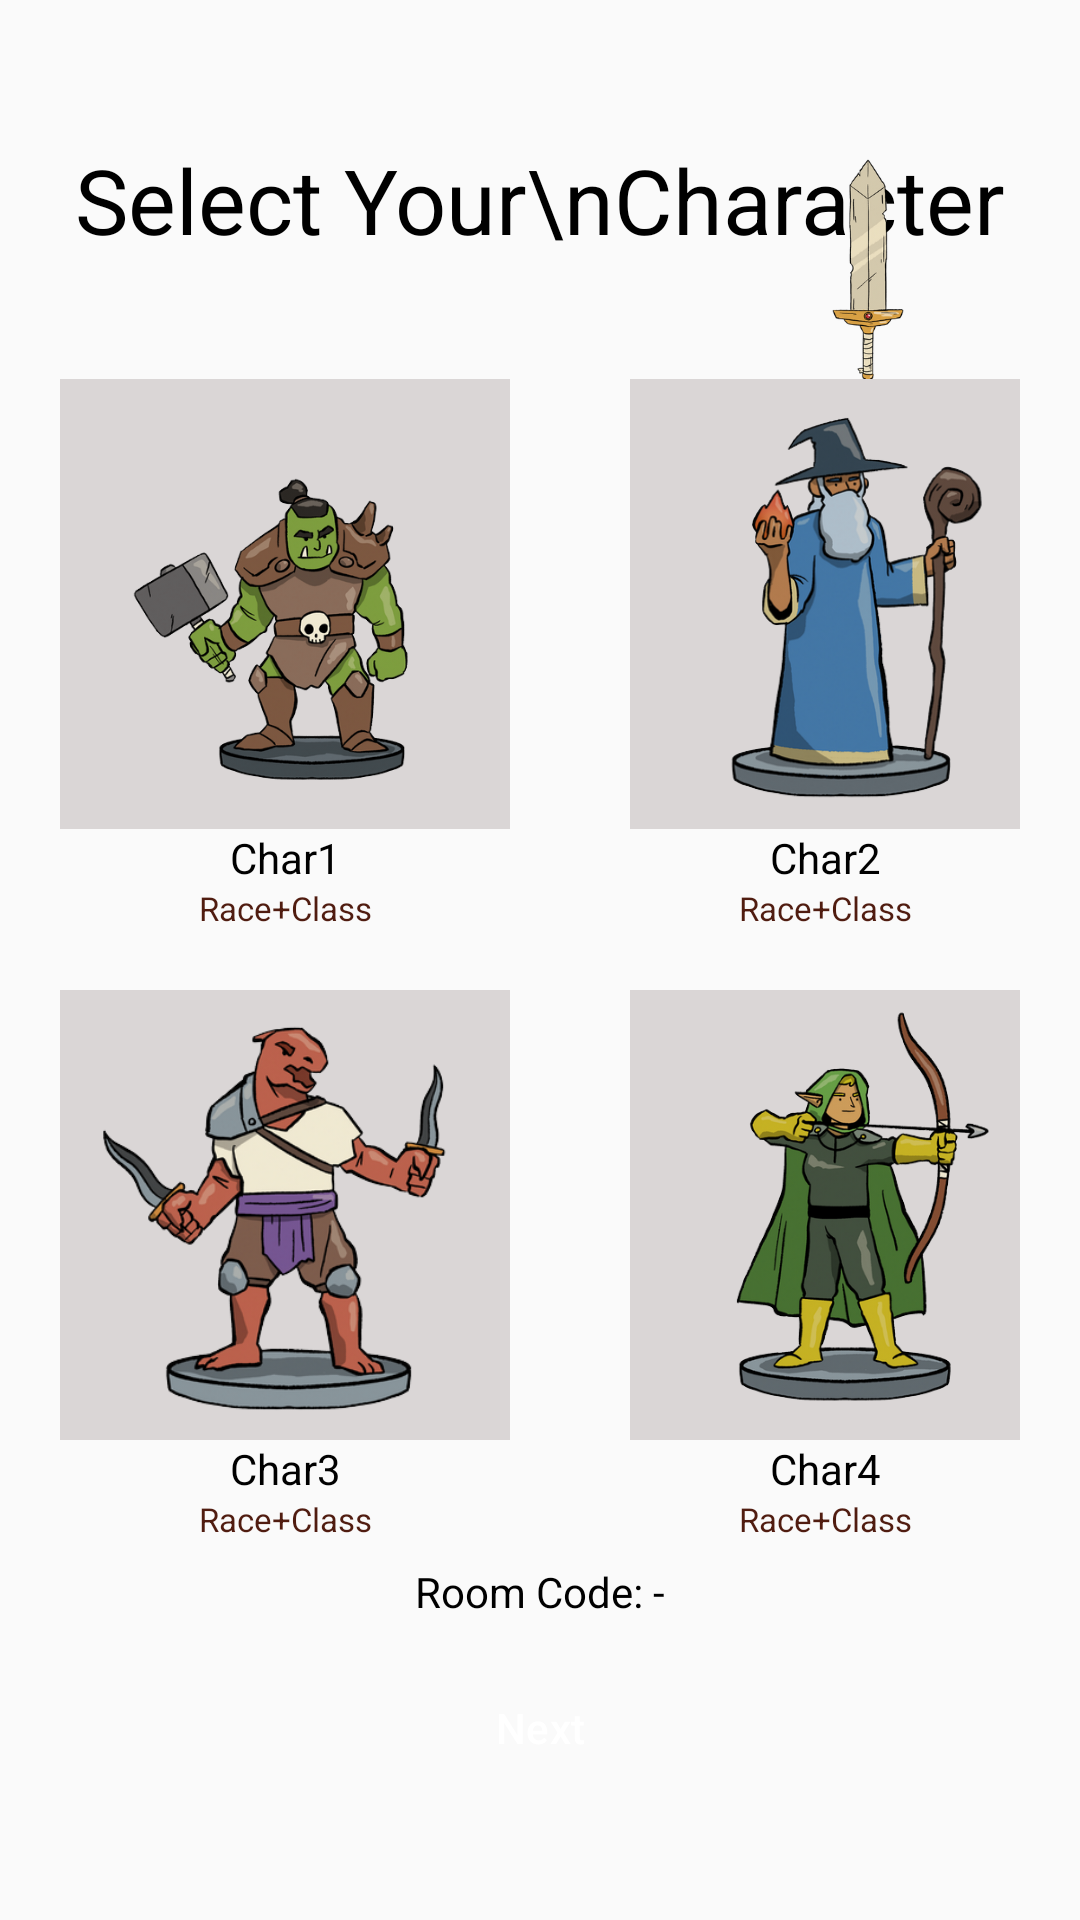

Icon bounding boxes for this 1080 x 1920 phone screenshot, format BBox(x1, y1, x2, y2):
Sword Icon: BBox(816, 160, 936, 438)
